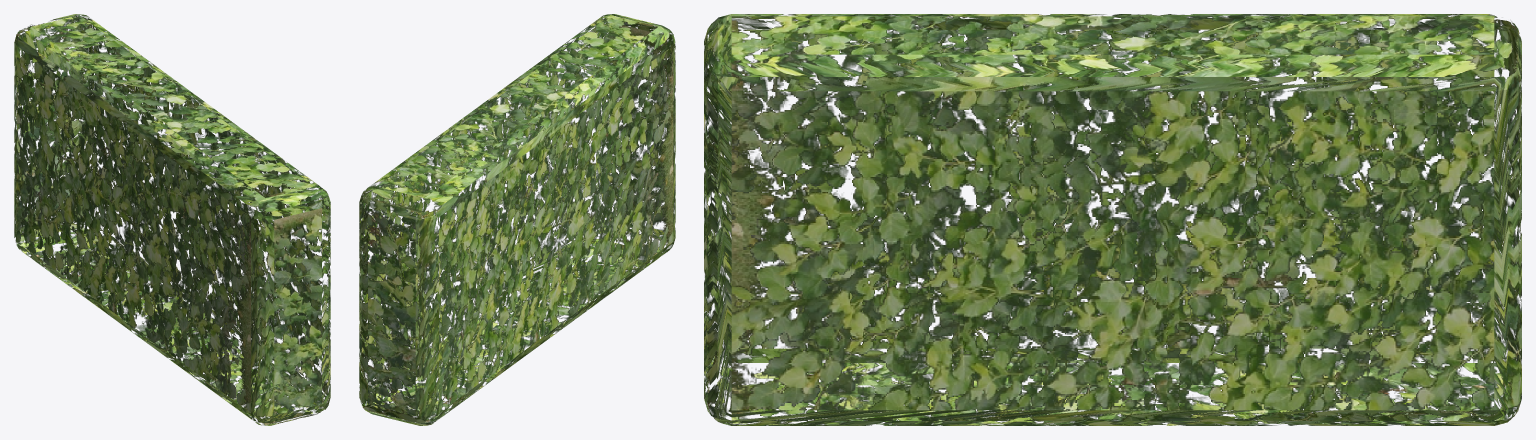
The model's file is baked_bush.glb.
3 renders of one model, left to right at view 1: azimuth 30°, elevation 25°; view 2: azimuth 150°, elevation 25°; view 3: azimuth 270°, elevation 25°, orthographic. The views are drawn at different scales.
Visible parts, largest first — view 1: Cube; view 2: Cube; view 3: Cube.
Part boxes in pixels (x1=…): Cube: x1=14, y1=14, x2=330, y2=425; Cube: x1=359, y1=14, x2=675, y2=425; Cube: x1=704, y1=14, x2=1521, y2=425.
Size of the model in its own units: 2 by 5.61 by 11.27.
1 material, 1 textured.
